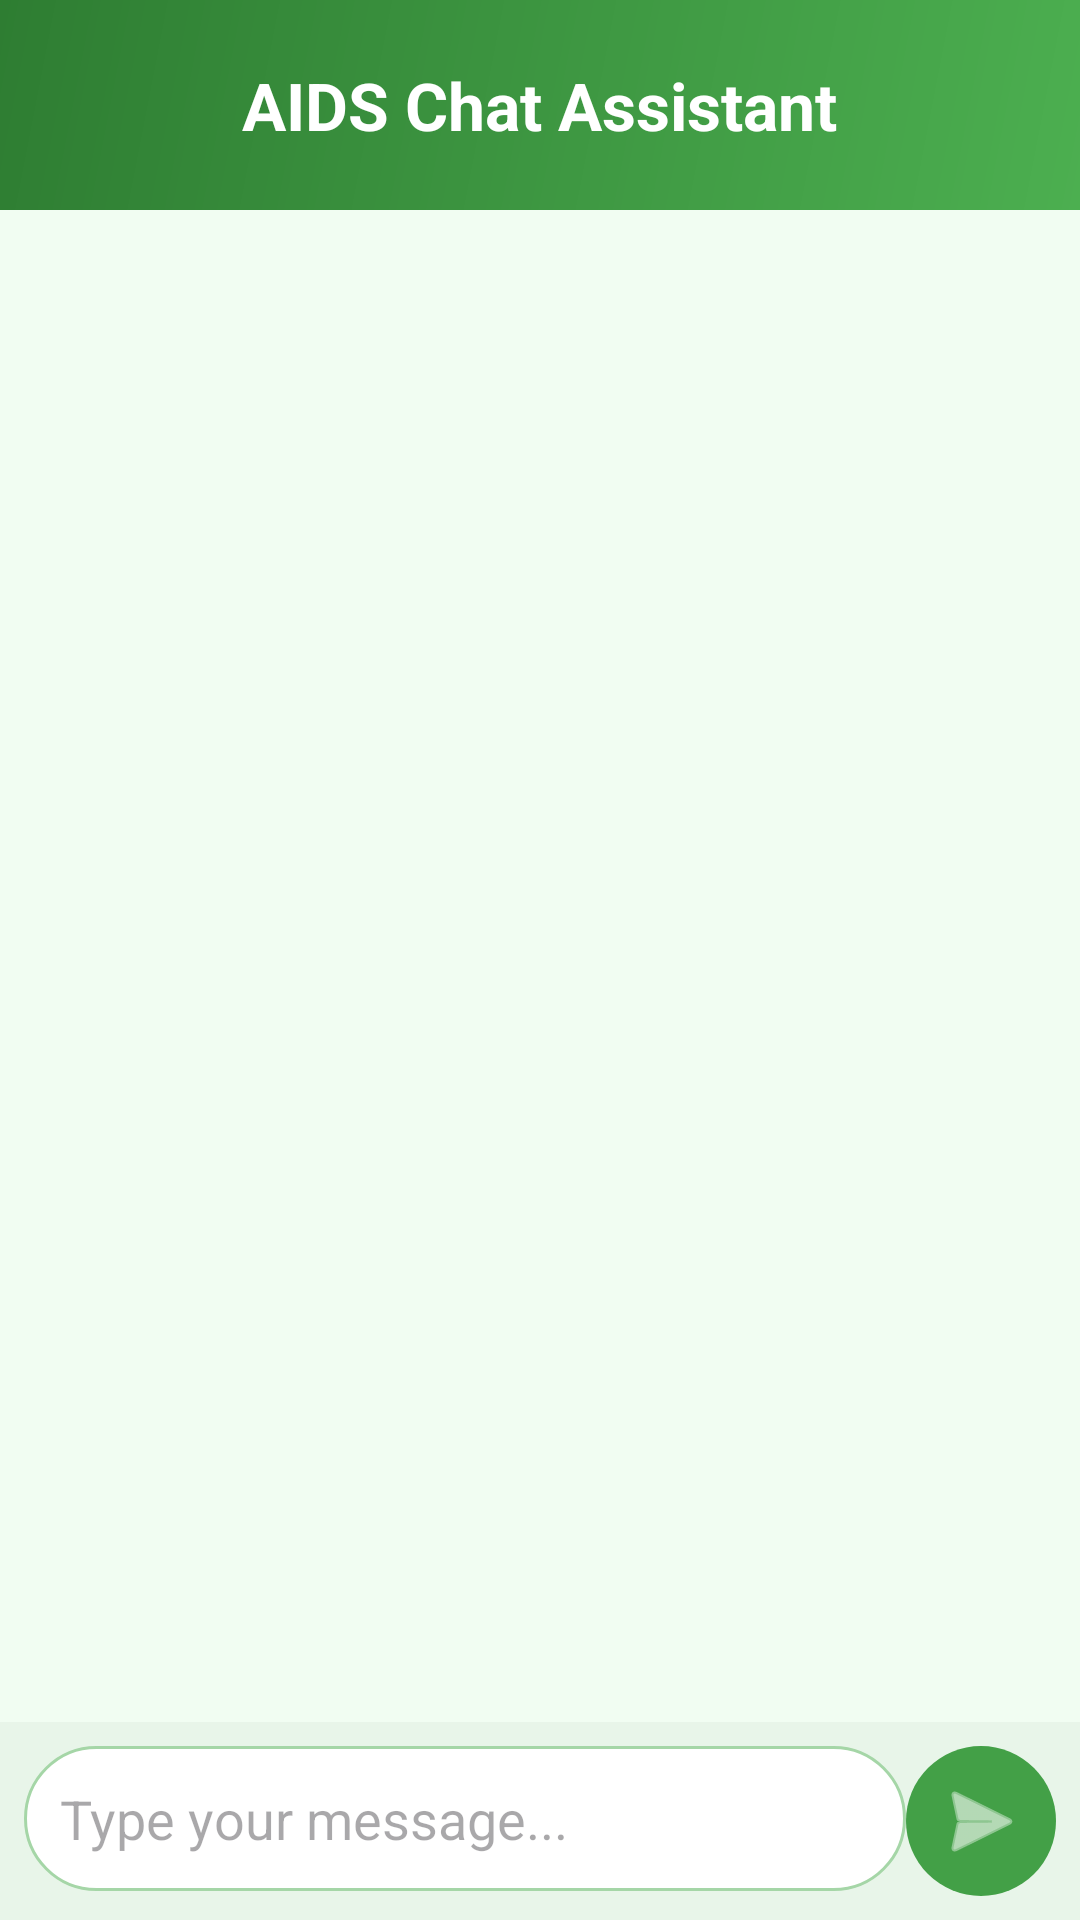

Icons on this 1080 x 1920 Android screen, each with its box as (x1, y1, x2, y2):
Send: (906, 1746, 1056, 1896)
